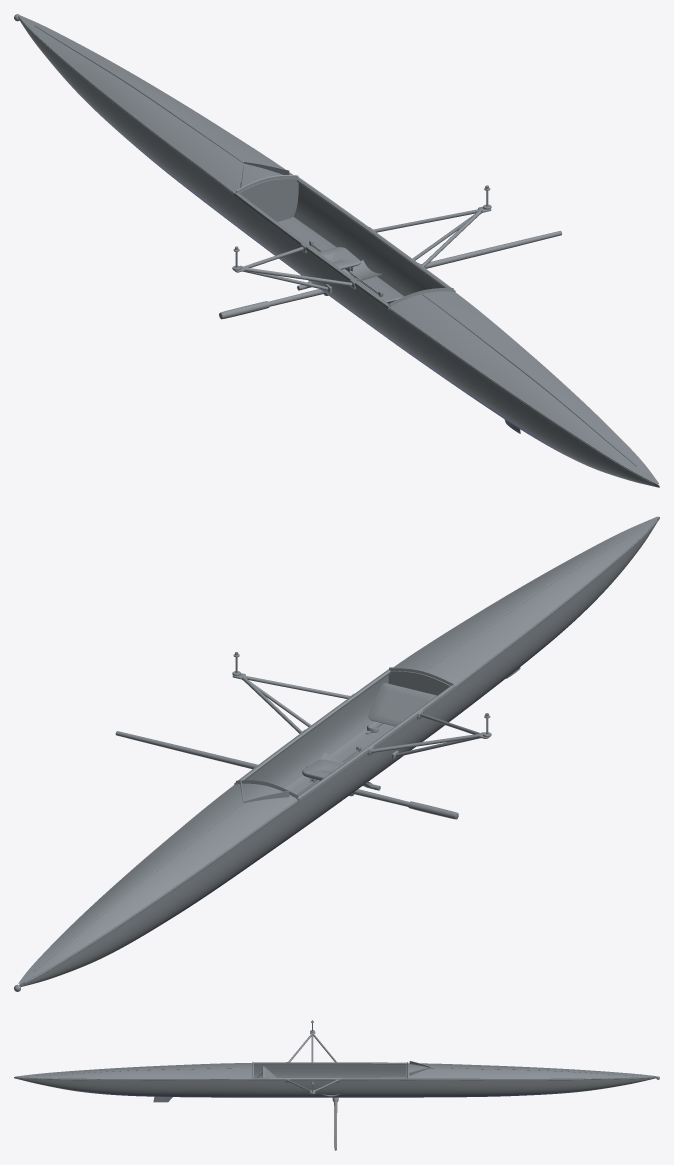
Rendered from rowing-shell.glb.
The picture shows the model from 3 angles, top to bottom: view 1: azimuth 30°, elevation 25°; view 2: azimuth 150°, elevation 25°; view 3: azimuth 270°, elevation 25°; orthographic projection. The views are drawn at different scales.
Visible parts, largest first — view 1: equipment:row:boat-assembly:hull, equipment:row:boat-assembly:stern-deck, equipment:row:boat-assembly:bow-deck, equipment:row:boat-assembly:cockpit-tub, equipment:row:boat-assembly:accent-strakes, equipment:row:boat-assembly:riggers, equipment:row:boat-assembly:gunwales, equipment:row:oar-rig:shaft; view 2: equipment:row:boat-assembly:hull, equipment:row:boat-assembly:bow-deck, equipment:row:boat-assembly:stern-deck, equipment:row:boat-assembly:cockpit-tub, equipment:row:boat-assembly:accent-strakes, equipment:row:boat-assembly:riggers, equipment:row:boat-assembly:gunwales, equipment:row:boat-assembly:foot-stretcher, equipment:row:oar-rig:shaft; view 3: equipment:row:boat-assembly:hull, equipment:row:boat-assembly:bow-deck, equipment:row:boat-assembly:stern-deck, equipment:row:boat-assembly:cockpit-tub, equipment:row:boat-assembly:accent-strakes, equipment:row:boat-assembly:gunwales, equipment:row:boat-assembly:riggers.
Boxes of the visible parts, x1=… form: equipment:row:boat-assembly:hull: x1=18, y1=16, x2=659, y2=487; equipment:row:boat-assembly:stern-deck: x1=389, y1=291, x2=658, y2=484; equipment:row:boat-assembly:bow-deck: x1=18, y1=15, x2=296, y2=193; equipment:row:boat-assembly:cockpit-tub: x1=239, y1=179, x2=443, y2=300; equipment:row:boat-assembly:accent-strakes: x1=14, y1=14, x2=653, y2=484; equipment:row:boat-assembly:riggers: x1=233, y1=206, x2=491, y2=293; equipment:row:boat-assembly:gunwales: x1=234, y1=177, x2=455, y2=309; equipment:row:oar-rig:shaft: x1=268, y1=231, x2=561, y2=306; equipment:row:boat-assembly:hull: x1=19, y1=517, x2=659, y2=986; equipment:row:boat-assembly:bow-deck: x1=18, y1=783, x2=297, y2=983; equipment:row:boat-assembly:stern-deck: x1=391, y1=516, x2=659, y2=685; equipment:row:boat-assembly:cockpit-tub: x1=246, y1=671, x2=449, y2=794; equipment:row:boat-assembly:accent-strakes: x1=14, y1=520, x2=657, y2=991; equipment:row:boat-assembly:riggers: x1=232, y1=673, x2=490, y2=759; equipment:row:boat-assembly:gunwales: x1=234, y1=669, x2=455, y2=801; equipment:row:boat-assembly:foot-stretcher: x1=368, y1=683, x2=436, y2=726; equipment:row:oar-rig:shaft: x1=115, y1=731, x2=409, y2=806; equipment:row:boat-assembly:hull: x1=14, y1=1076, x2=656, y2=1097; equipment:row:boat-assembly:bow-deck: x1=406, y1=1063, x2=656, y2=1078; equipment:row:boat-assembly:stern-deck: x1=15, y1=1063, x2=253, y2=1078; equipment:row:boat-assembly:cockpit-tub: x1=254, y1=1064, x2=406, y2=1077; equipment:row:boat-assembly:accent-strakes: x1=18, y1=1061, x2=659, y2=1080; equipment:row:boat-assembly:gunwales: x1=252, y1=1062, x2=408, y2=1080; equipment:row:boat-assembly:riggers: x1=285, y1=1031, x2=339, y2=1094.
Bounding box in the file's own units: 2.47 × 0.6811 × 7.83.
